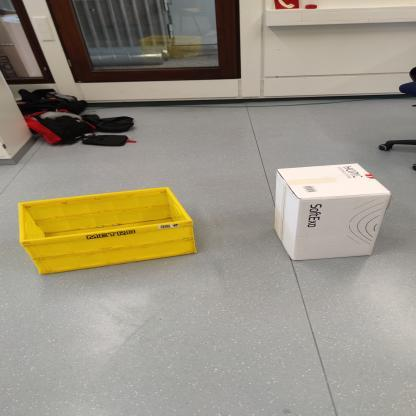-: (5, 188, 213, 279), (261, 142, 392, 278)
